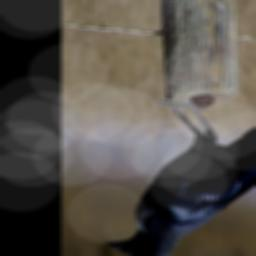Crow: (104, 94, 256, 256)
